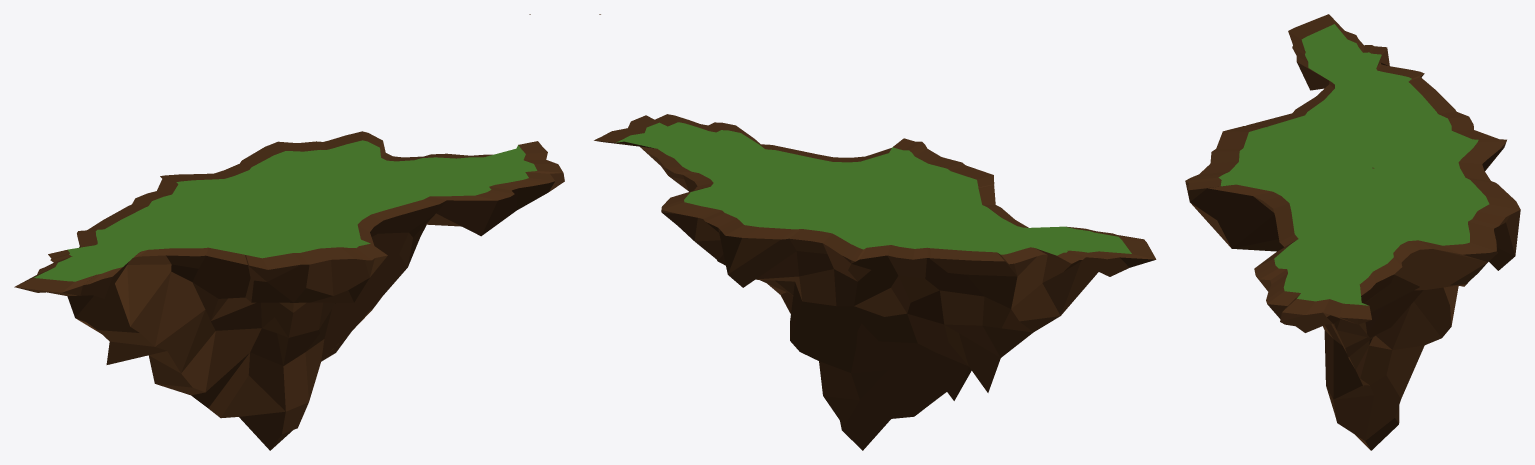
File: island 4 bald.glb
3 views of the same model, side by side, from view 1: azimuth 30°, elevation 25°; view 2: azimuth 150°, elevation 25°; view 3: azimuth 270°, elevation 25° (orthographic). The views are drawn at different scales.
Visible parts, largest first — view 1: Vert, Vert.001; view 2: Vert, Vert.001; view 3: Vert.001, Vert.
Part boxes in pixels (<box>): Vert: <box>14,14,564,450</box>; Vert.001: <box>34,140,537,281</box>; Vert: <box>594,14,1156,450</box>; Vert.001: <box>616,122,1131,255</box>; Vert.001: <box>1218,24,1489,305</box>; Vert: <box>1185,14,1520,450</box>.
Size of the model in its own units: 8.89 by 5.83 by 4.12.
